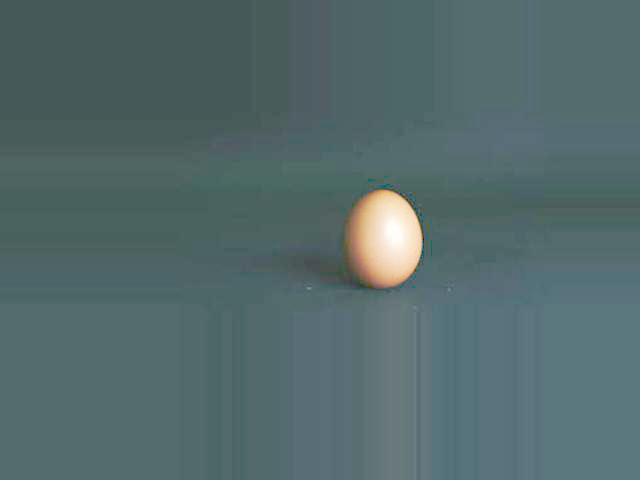egg: (344, 190, 420, 288)
